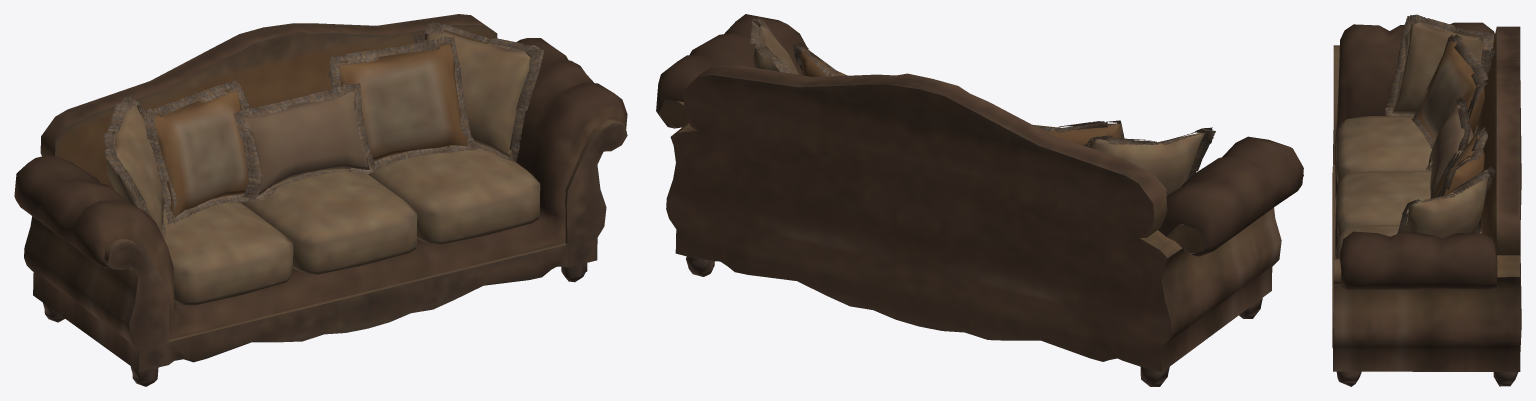
File: ph_sofa_2.glb
The picture shows the model from 3 angles, left to right: view 1: azimuth 30°, elevation 25°; view 2: azimuth 150°, elevation 25°; view 3: azimuth 270°, elevation 25°; orthographic projection. The views are drawn at different scales.
Visible parts, largest first — view 1: ph_sofa_2; view 2: ph_sofa_2; view 3: ph_sofa_2.
Part boxes in pixels (left/top/right/bottom): ph_sofa_2: left=14, top=14, right=627, bottom=386; ph_sofa_2: left=656, top=14, right=1303, bottom=386; ph_sofa_2: left=1332, top=14, right=1521, bottom=386.
Size of the model in its own units: 2.72 by 1.12 by 0.9244.
Materials: 2 (2 with a texture image).
